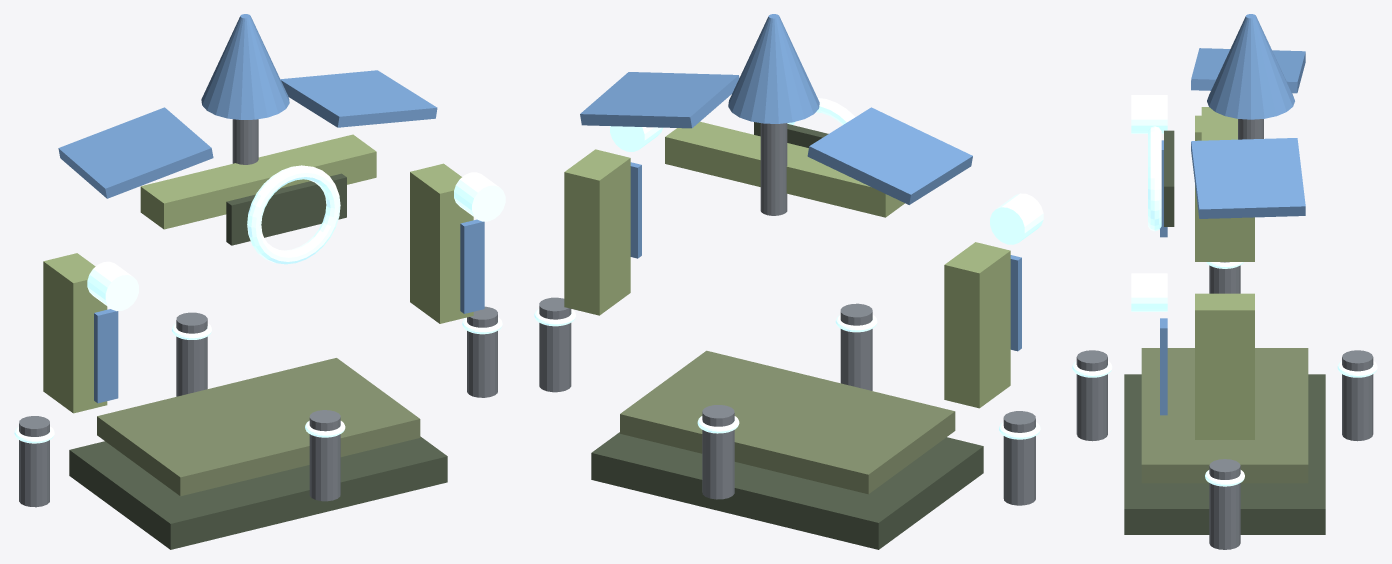
Rendered from asset.glb.
3 views of the same model, side by side, from view 1: azimuth 30°, elevation 25°; view 2: azimuth 150°, elevation 25°; view 3: azimuth 270°, elevation 25° (orthographic). The views are drawn at different scales.
Parts seen in each view (by area): view 1: RaisedDeck, Foundation, CrossBeam, CanopyWing_-1, Pylon_-1, Pylon_1, CanopyWing_1, TopMarker, SignPanel, IdentityRing, Bollard_3, Bollard_2 (+7 smaller); view 2: RaisedDeck, Foundation, Pylon_1, Pylon_-1, CanopyWing_-1, CrossBeam, CanopyWing_1, TopMarker, Bollard_2, Bollard_1, Bollard_0, CenterMast (+6 smaller); view 3: RaisedDeck, Foundation, Pylon_1, CanopyWing_1, TopMarker, Bollard_1, Bollard_3, Bollard_0, CanopyWing_-1, Pylon_-1, CrossBeam, Lamp_1 (+6 smaller).
Part boxes in pixels (x1,y1,x2,y2): RaisedDeck: (97, 358, 420, 496); Foundation: (69, 436, 447, 549); CrossBeam: (140, 134, 376, 229); CanopyWing_-1: (58, 107, 213, 198); Pylon_-1: (43, 253, 107, 413); Pylon_1: (410, 163, 473, 323); CanopyWing_1: (280, 70, 437, 127); TopMarker: (201, 14, 289, 119); SignPanel: (226, 173, 346, 245); IdentityRing: (247, 165, 340, 264); Bollard_3: (309, 410, 340, 501); Bollard_2: (19, 416, 49, 507); RaisedDeck: (620, 350, 955, 494); Foundation: (591, 432, 983, 549); Pylon_1: (564, 149, 630, 315); Pylon_-1: (944, 242, 1010, 408); CanopyWing_-1: (807, 107, 972, 204); CrossBeam: (665, 121, 904, 217); CanopyWing_1: (580, 72, 739, 128); TopMarker: (728, 14, 819, 123); Bollard_2: (1003, 411, 1035, 505); Bollard_1: (702, 405, 734, 499); Bollard_0: (539, 297, 571, 392); CenterMast: (760, 123, 787, 215); RaisedDeck: (1141, 348, 1308, 483); Foundation: (1124, 374, 1325, 534); Pylon_1: (1195, 293, 1254, 439); CanopyWing_1: (1191, 138, 1305, 218); TopMarker: (1207, 14, 1294, 119); Bollard_1: (1342, 350, 1373, 441); Bollard_3: (1076, 350, 1107, 441); Bollard_0: (1209, 459, 1240, 549); CanopyWing_-1: (1191, 48, 1305, 93); Pylon_-1: (1195, 115, 1254, 261); CrossBeam: (1201, 107, 1248, 236); Lamp_1: (1131, 273, 1167, 311).
Bounding box in the file's own units: 4.27 × 3.83 × 2.35.
